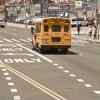Bus: (27, 13, 74, 60)
